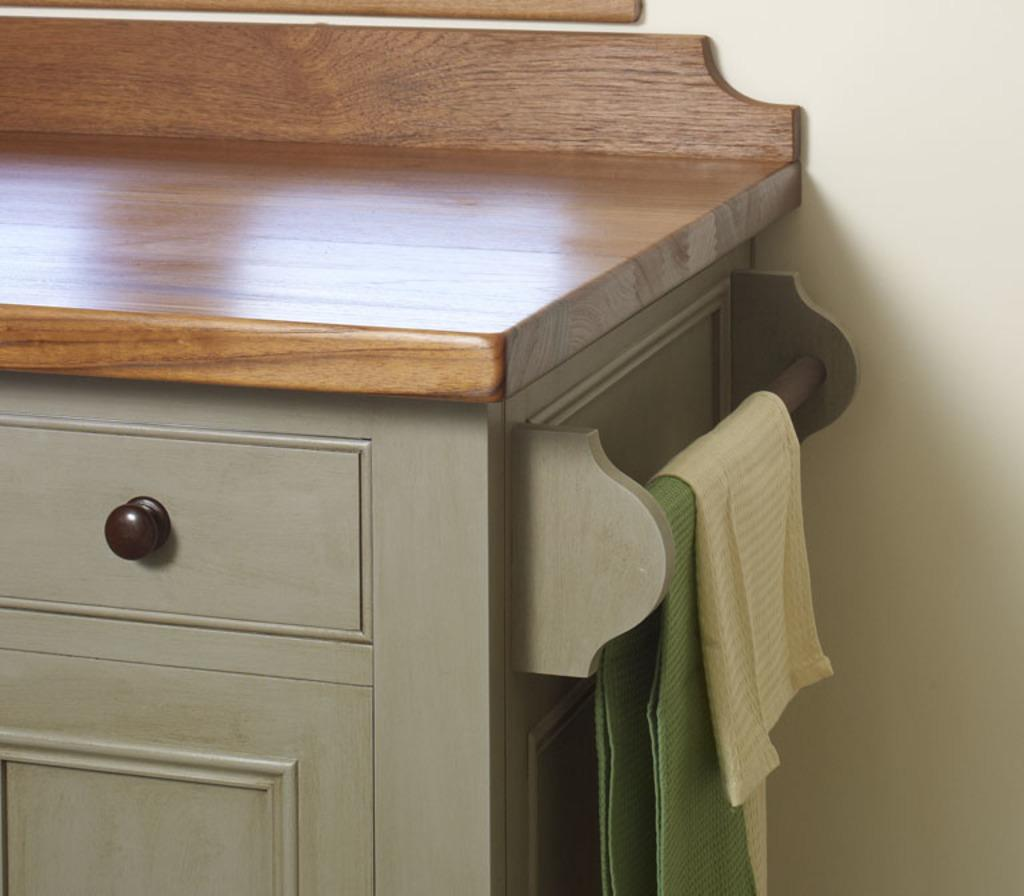cabinet_door: (4, 396, 379, 654), (24, 673, 382, 896)
handle: (108, 491, 173, 568)
